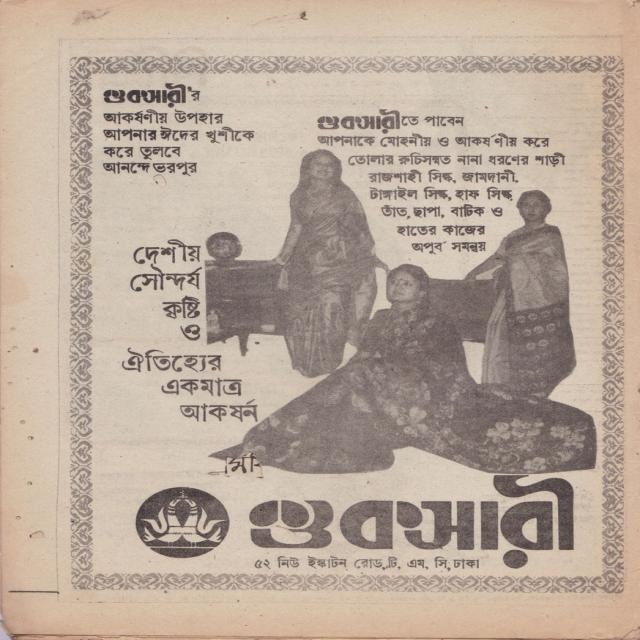advertisement: (67, 51, 632, 597)
